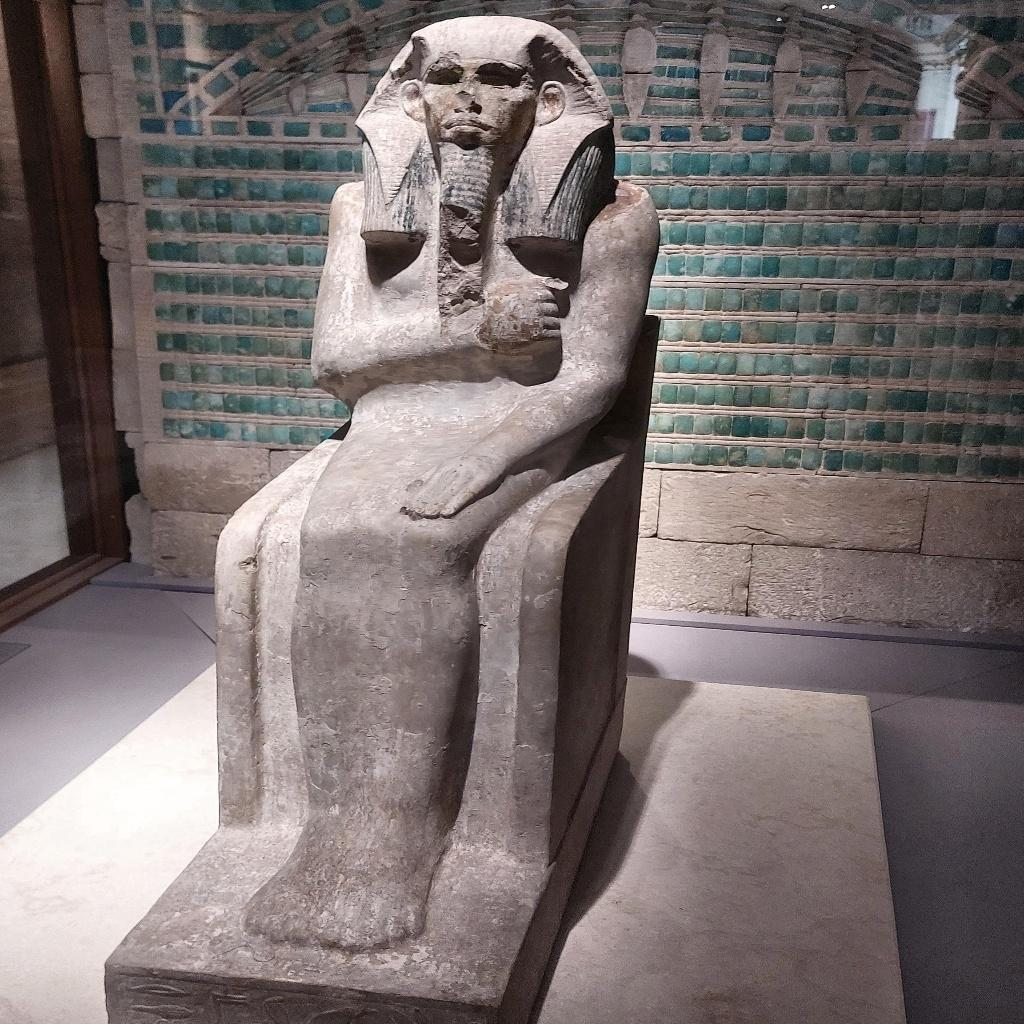Seated Statue of Djoser: (102, 8, 660, 1024)
